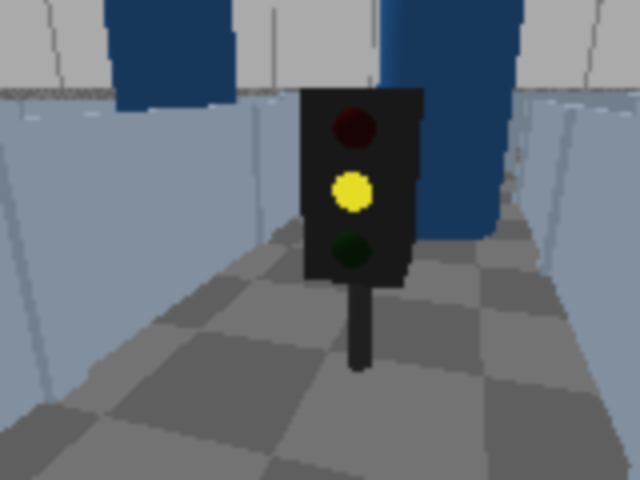traffic_light: (300, 68, 425, 398)
